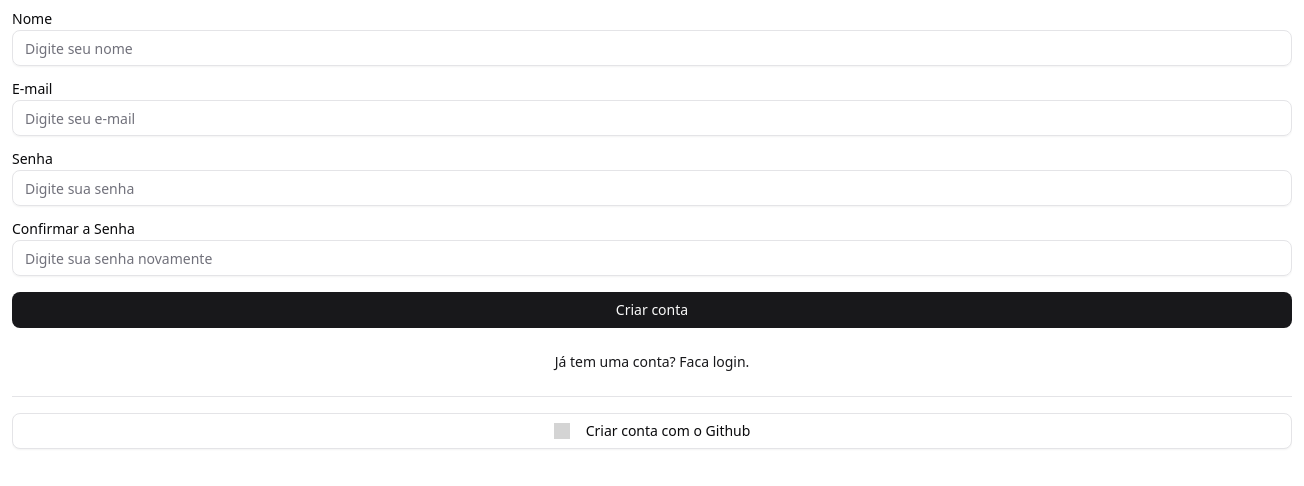
<SignUpForm /> › should show name validation error
Type "João" into the field labelled "Nome".
click(652, 48); type("João")  # box [12,30,1292,66]
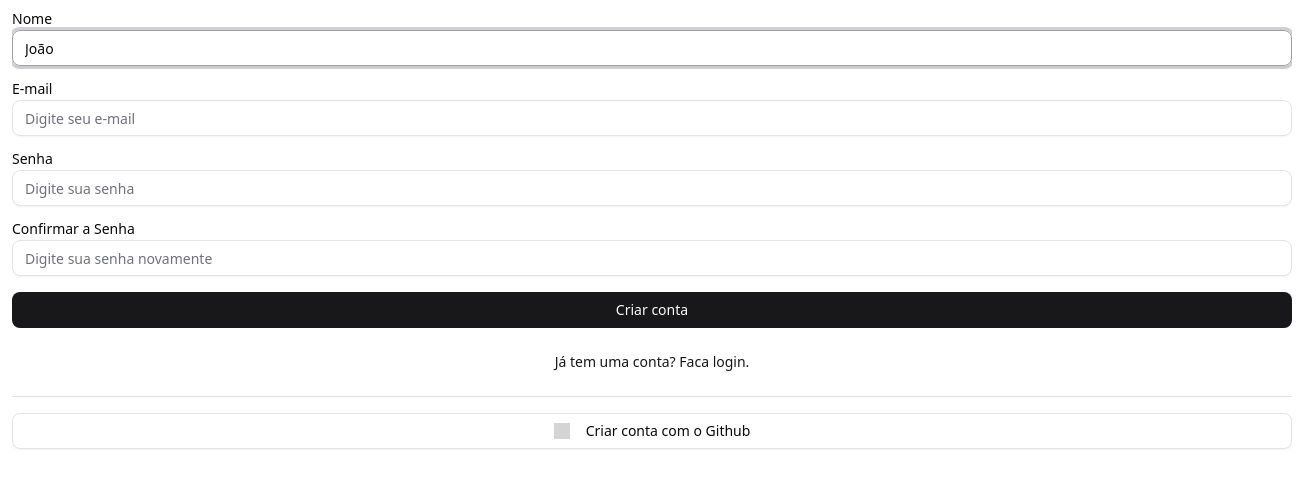
Click the button "Criar conta".
click(652, 310)  # box [12,292,1292,328]
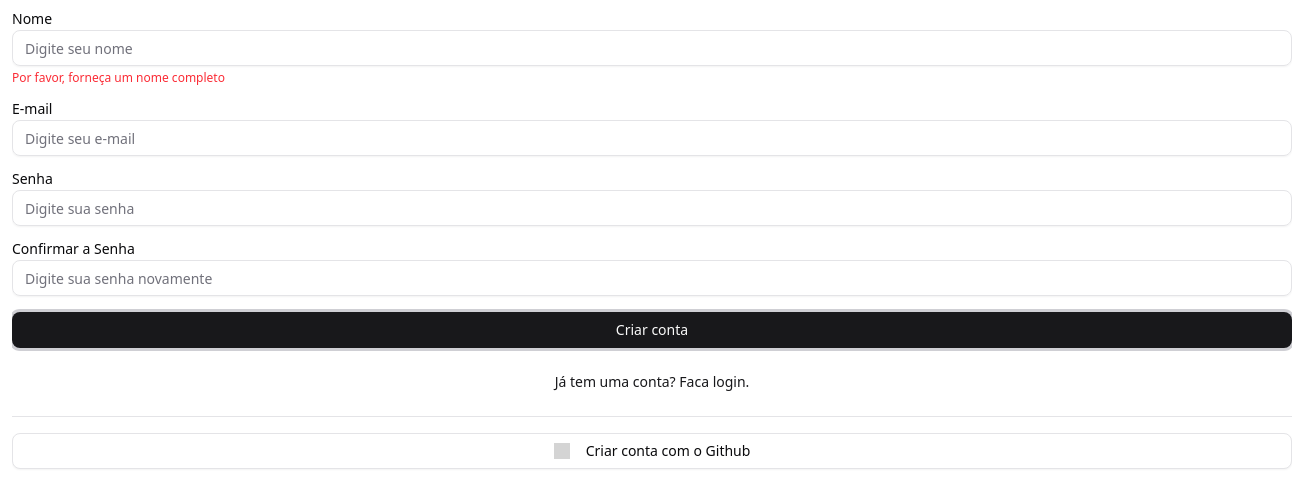
Expected: the text "Por favor, forneça um nome completo" is shown, [12,69,225,86]
